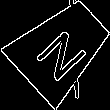N_NE: (29, 16, 93, 80)
